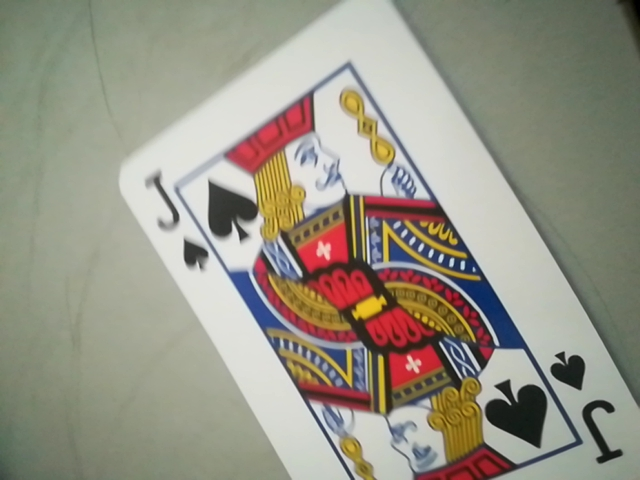ht j: (137, 167, 209, 273)
